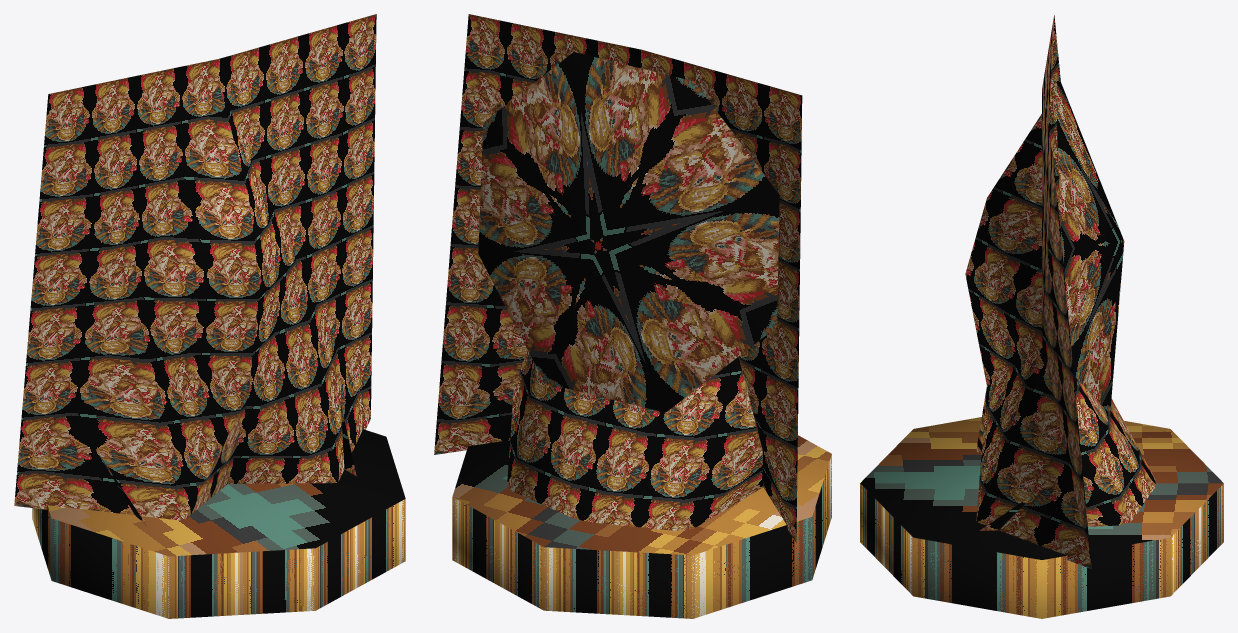
The picture shows the model from 3 angles, left to right: view 1: azimuth 30°, elevation 25°; view 2: azimuth 150°, elevation 25°; view 3: azimuth 270°, elevation 25°; orthographic projection. The views are drawn at different scales.
Parts seen in each view (by area): view 1: 3797kg_sh1_20; view 2: 3797kg_sh1_20; view 3: 3797kg_sh1_20.
Part boxes in pixels (left/top/right/bottom): 3797kg_sh1_20: left=14, top=14, right=405, bottom=618; 3797kg_sh1_20: left=434, top=14, right=831, bottom=618; 3797kg_sh1_20: left=860, top=15, right=1223, bottom=618.
Size of the model in its own units: 0.9775 by 1.26 by 0.918.
Materials: 1 (1 with a texture image).
